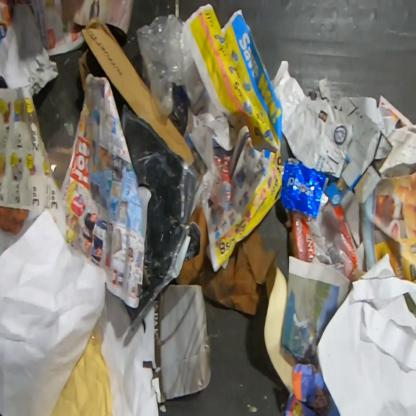cardboard: (79, 17, 198, 167), (174, 202, 278, 315)
metal: (280, 158, 329, 218)
rigid_plastic: (89, 303, 108, 342)
soft_plastic: (136, 13, 196, 118), (292, 205, 358, 283), (46, 116, 77, 178)
